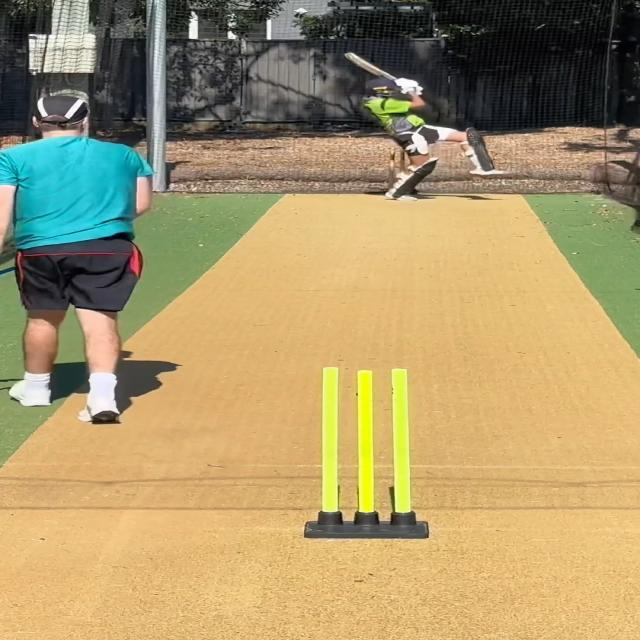stump: (303, 364, 431, 539)
